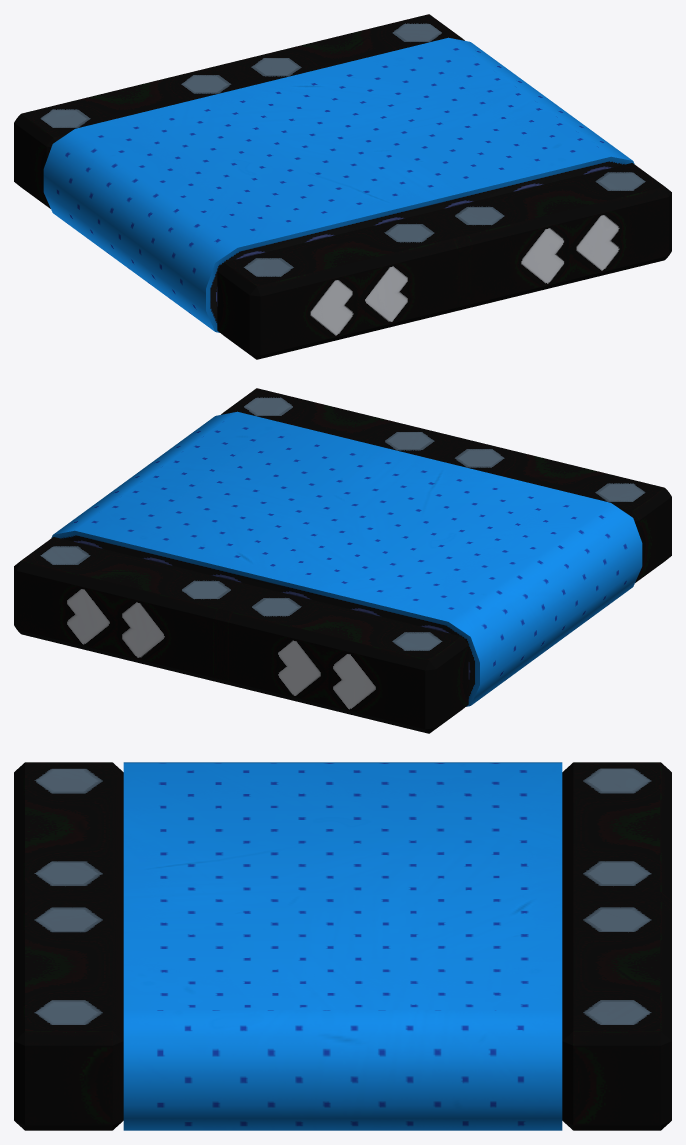
File: obj_factory_belt_01.fbx
3 views of the same model, one above another, from view 1: azimuth 30°, elevation 25°; view 2: azimuth 150°, elevation 25°; view 3: azimuth 270°, elevation 25° (orthographic). The views are drawn at different scales.
Visible parts, largest first — view 1: factory_belt_01_lp; view 2: factory_belt_01_lp; view 3: factory_belt_01_lp.
Boxes of the visible parts, box(x1,y1,x2,y2) form: factory_belt_01_lp: box(14, 14, 671, 359); factory_belt_01_lp: box(14, 388, 671, 733); factory_belt_01_lp: box(14, 762, 671, 1130).
Bounding box in the file's own units: 6 × 1.2 × 6.2.
